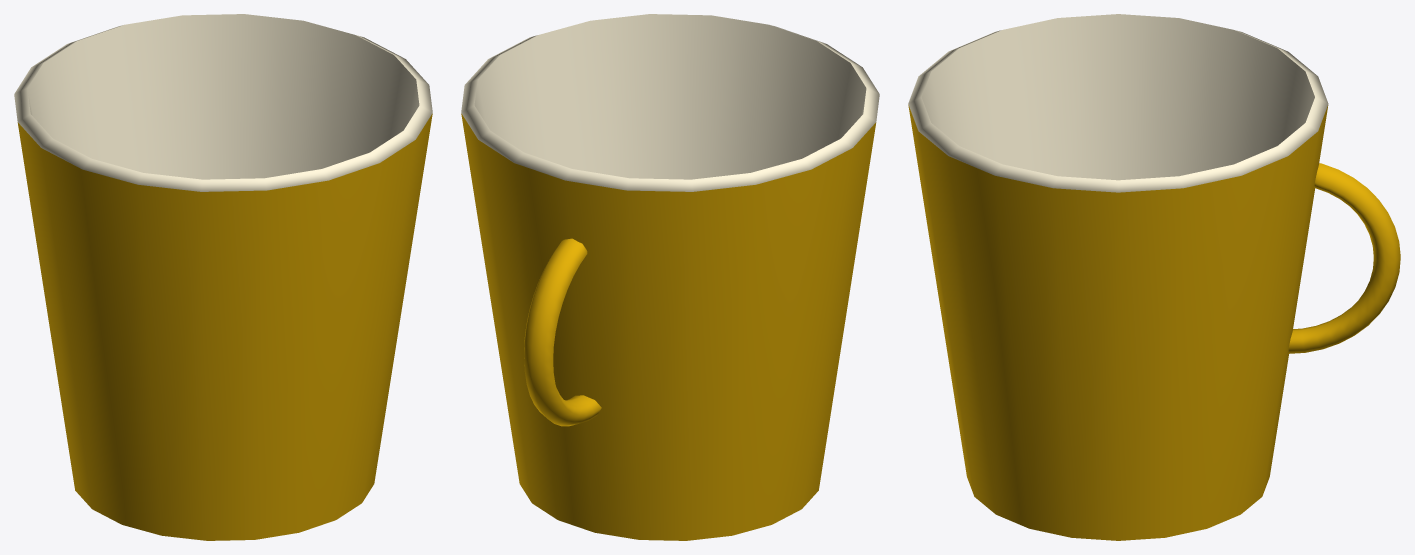
File: Cup_Yellow.fbx
3 renders of one model, left to right at view 1: azimuth 30°, elevation 25°; view 2: azimuth 150°, elevation 25°; view 3: azimuth 270°, elevation 25°, orthographic.
Parts seen in each view (by area): view 1: pCylinder2; view 2: pCylinder2; view 3: pCylinder2.
Part boxes in pixels (bbox=[...]): pCylinder2: bbox=[14, 14, 432, 540]; pCylinder2: bbox=[461, 14, 879, 540]; pCylinder2: bbox=[908, 14, 1400, 540].
Bounding box in the file's own units: 17.74 × 17.69 × 20.79.
